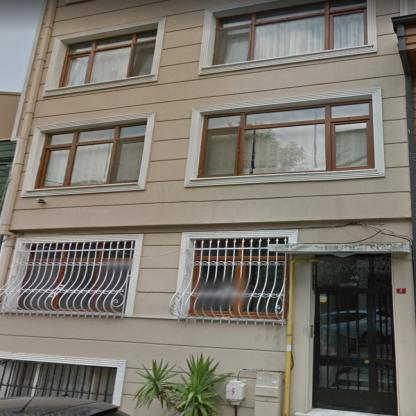door: (315, 289, 392, 413)
window: (200, 100, 371, 177), (215, 0, 369, 65), (19, 242, 136, 310), (193, 238, 286, 316), (42, 121, 147, 187), (58, 28, 158, 86), (0, 361, 116, 403), (316, 257, 388, 288)
